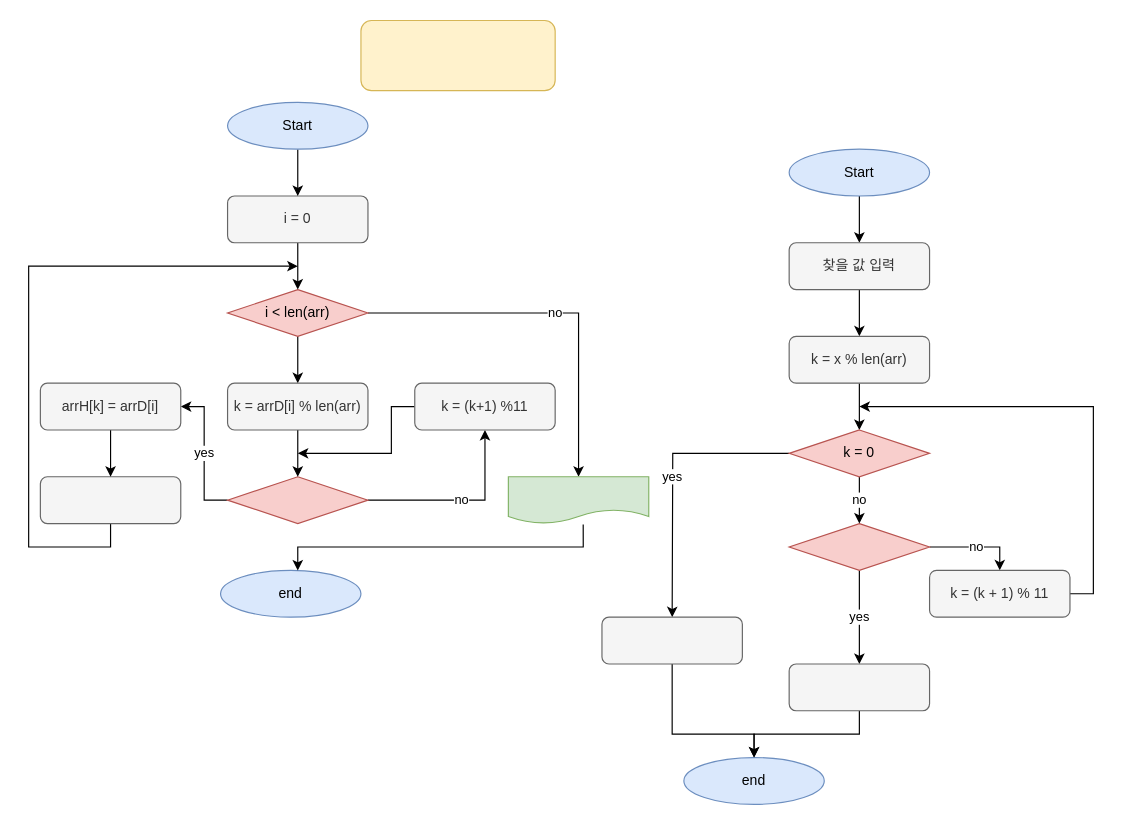
This 1123x825 diagram has some shape labels left out. Each missing label, with the centre of its shape:
"arr[k] = 0" belongs at point (297, 500).
"arrH" belongs at point (578, 500).
"arrHH[k] = x" belongs at point (859, 546).
"i += 1" belongs at point (110, 500).
"x가 없습니다." belongs at point (671, 640).
"저장위치는 k번째 요소입니다." belongs at point (859, 687).
"해시 탐색법" belongs at point (457, 55).
